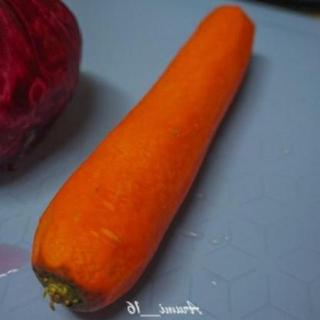carrot: (30, 0, 264, 313)
